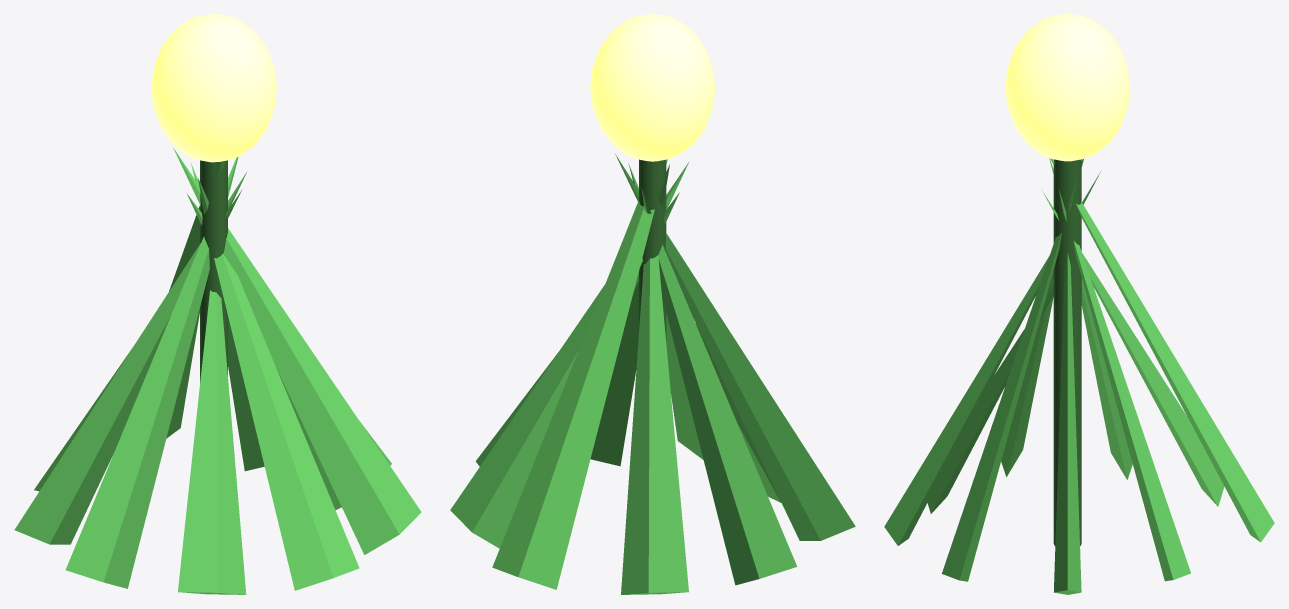
File: res_fiber.glb
3 renders of one model, left to right at view 1: azimuth 30°, elevation 25°; view 2: azimuth 150°, elevation 25°; view 3: azimuth 270°, elevation 25°, orthographic.
Parts seen in each view (by area): view 1: Blade8, Bulb, Blade7, Blade5, Blade6, Blade4, Stalk, Blade1, Blade2, Blade0, Blade3; view 2: Blade2, Bulb, Blade3, Blade4, Blade5, Blade1, Blade8, Stalk, Blade7, Blade6, Blade0; view 3: Bulb, Blade2, Stalk, Blade8, Blade1, Blade0, Blade7, Blade3, Blade6, Blade4, Blade5.
Part boxes in pixels (left/top/right/bottom): Blade8: left=173, top=148, right=421, bottom=554; Bulb: left=151, top=14, right=276, bottom=162; Blade7: left=191, top=163, right=359, bottom=590; Blade5: left=65, top=157, right=238, bottom=588; Blade6: left=178, top=290, right=246, bottom=594; Blade4: left=14, top=172, right=246, bottom=544; Stalk: left=200, top=160, right=227, bottom=382; Blade1: left=198, top=178, right=264, bottom=471; Blade2: left=166, top=161, right=224, bottom=438; Blade0: left=187, top=194, right=391, bottom=510; Blade3: left=34, top=189, right=242, bottom=491; Blade2: left=492, top=159, right=667, bottom=589; Bulb: left=590, top=14, right=715, bottom=161; Blade3: left=621, top=255, right=688, bottom=594; Blade4: left=628, top=163, right=797, bottom=585; Blade5: left=615, top=154, right=855, bottom=540; Blade1: left=450, top=162, right=688, bottom=548; Blade8: left=590, top=164, right=669, bottom=466; Stalk: left=639, top=159, right=666, bottom=341; Blade7: left=641, top=187, right=703, bottom=459; Blade6: left=695, top=323, right=781, bottom=502; Blade0: left=475, top=192, right=679, bottom=466; Bulb: left=1005, top=14, right=1129, bottom=161; Blade2: left=1050, top=158, right=1274, bottom=542; Stalk: left=1053, top=159, right=1081, bottom=545; Blade8: left=941, top=159, right=1083, bottom=581; Blade1: left=1049, top=158, right=1190, bottom=581; Blade0: left=1053, top=253, right=1081, bottom=594; Blade7: left=884, top=171, right=1100, bottom=545; Blade3: left=1042, top=191, right=1224, bottom=506; Blade6: left=927, top=244, right=1079, bottom=513; Blade4: left=1058, top=188, right=1132, bottom=479; Blade5: left=1001, top=173, right=1078, bottom=477.
Bounding box in the file's own units: 1.17 × 1.67 × 1.13.
